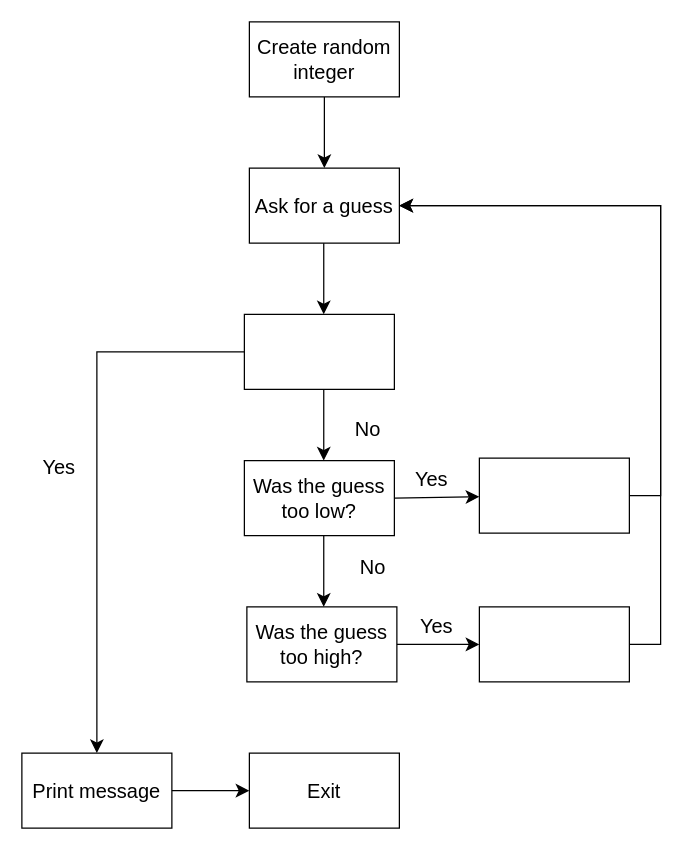
This 695x850 diagram has some shape labels left out. The centre of each missing label's shape, as x and y in pixels:
Print too high message: (x=553, y=644)
Print too low message: (x=553, y=495)
Was the guess correct?: (x=318, y=351)
